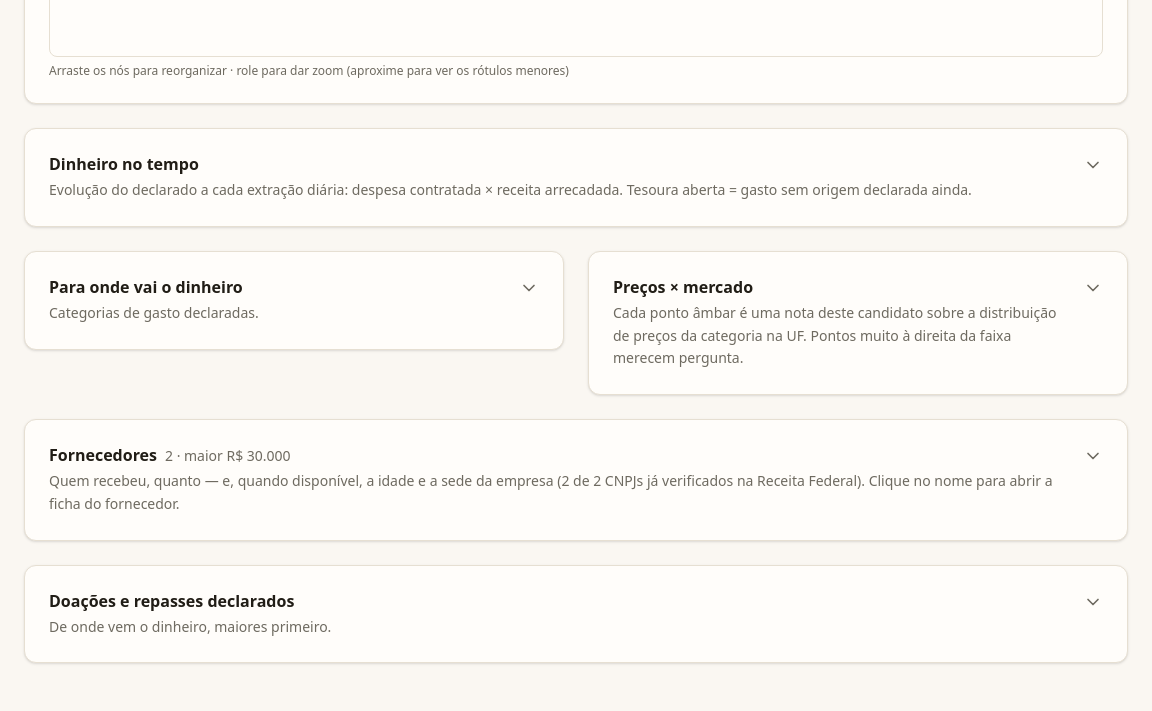
Test: ficha do candidato · notas escondidas na linha do fornecedor › as notas só aparecem depois do clique na linha
(page scrolled)
What coordinates should you click on to do the following:
click the heading "Fornecedores"
I would click on:
 (576, 478)
Its box is left=49, top=444, right=1103, bottom=513.
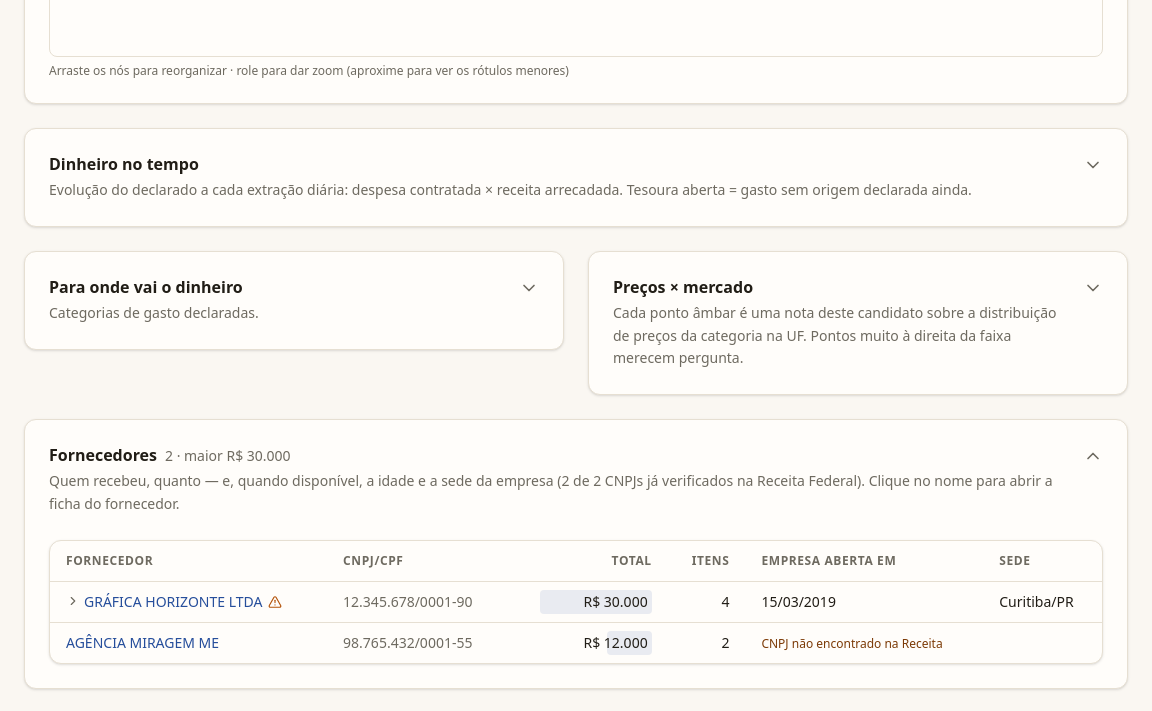
Expected: the text "Santinhos" is not shown
What coordinates should you click on to do the following:
click the text "GRÁFICA HORIZONTE LTDA"
I would click on:
 (576, 602)
Its box is left=50, top=581, right=1102, bottom=622.
(page scrolled)
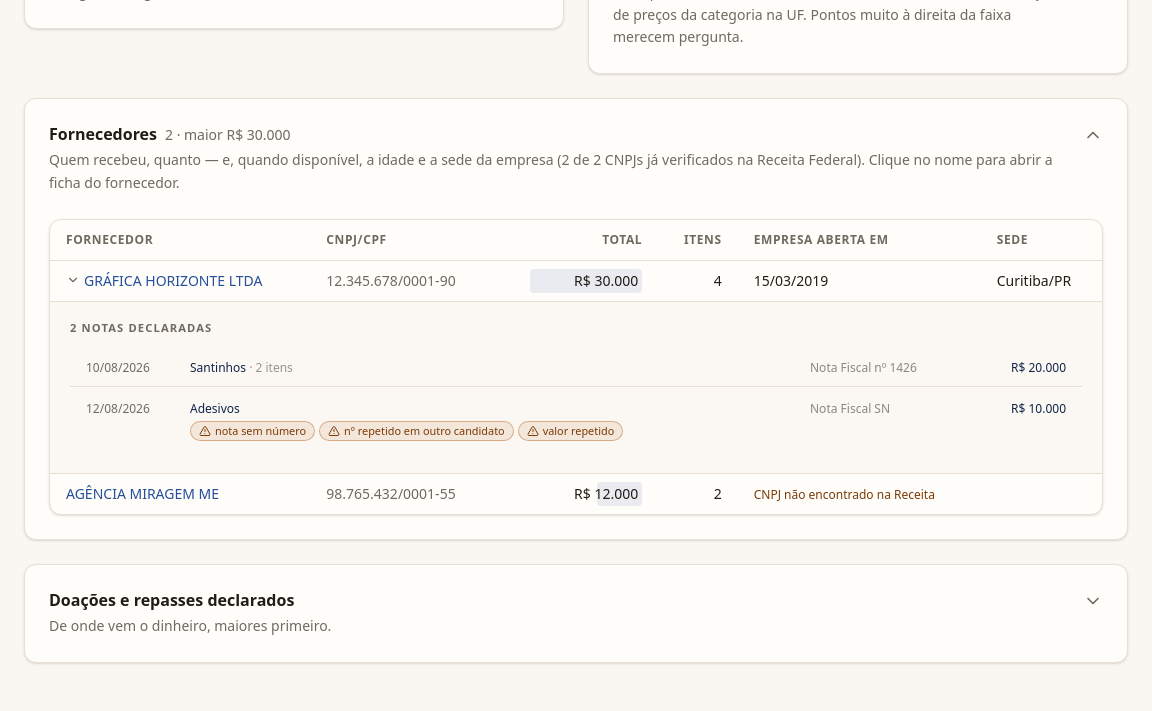
Expected: the text "Santinhos" is shown, left=190, top=358, right=246, bottom=376
Expected: the text "Adesivos" is shown, left=190, top=400, right=240, bottom=416
